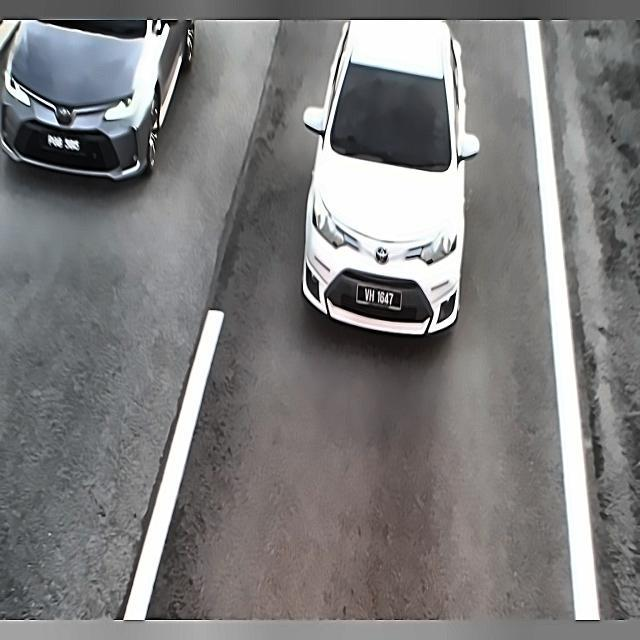car: (353, 280, 403, 316), (38, 124, 87, 159)
